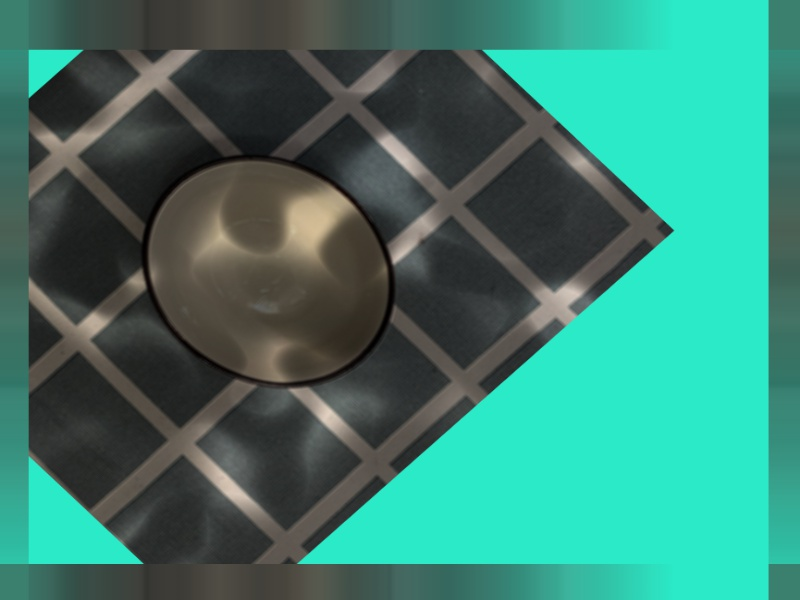bowl_small: (79, 97, 457, 442)
